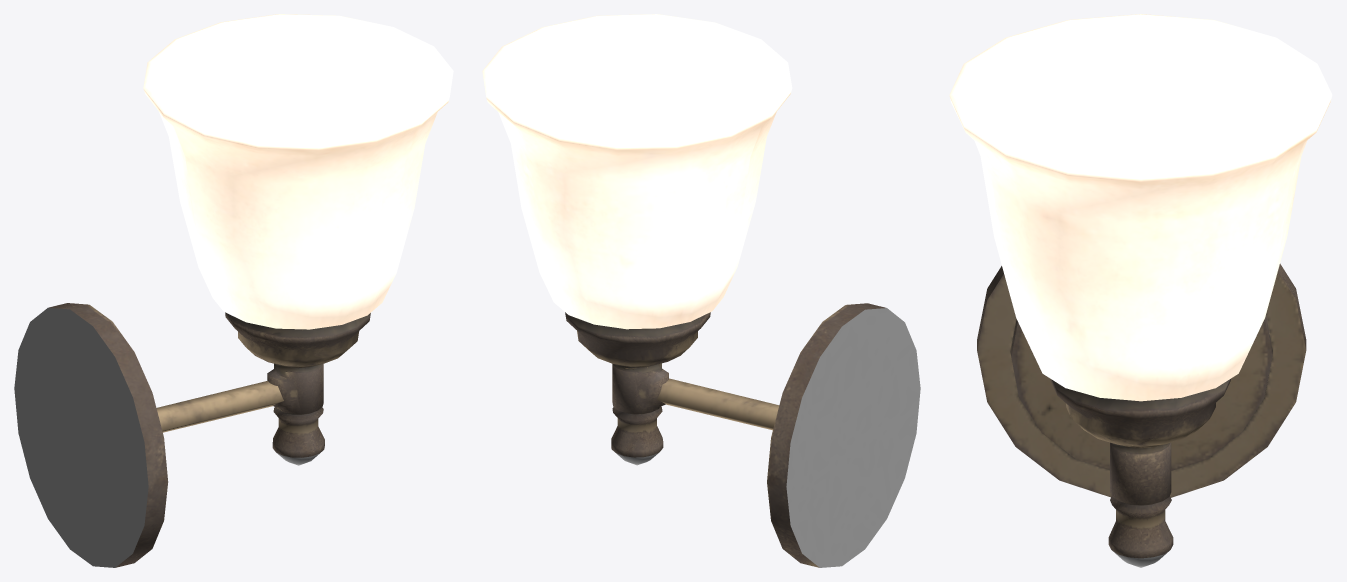
Rendered from Lamp_3.fbx.
3 views of the same model, side by side, from view 1: azimuth 30°, elevation 25°; view 2: azimuth 150°, elevation 25°; view 3: azimuth 270°, elevation 25° (orthographic). The views are drawn at different scales.
Visible parts, largest first — view 1: Lamp_wall_chan__3_; view 2: Lamp_wall_chan__3_; view 3: Lamp_wall_chan__3_.
Part boxes in pixels (left/top/right/bottom): Lamp_wall_chan__3_: left=14, top=14, right=453, bottom=567; Lamp_wall_chan__3_: left=482, top=14, right=920, bottom=567; Lamp_wall_chan__3_: left=949, top=14, right=1332, bottom=567.
Size of the model in its own units: 18.98 by 22.12 by 14.59.
